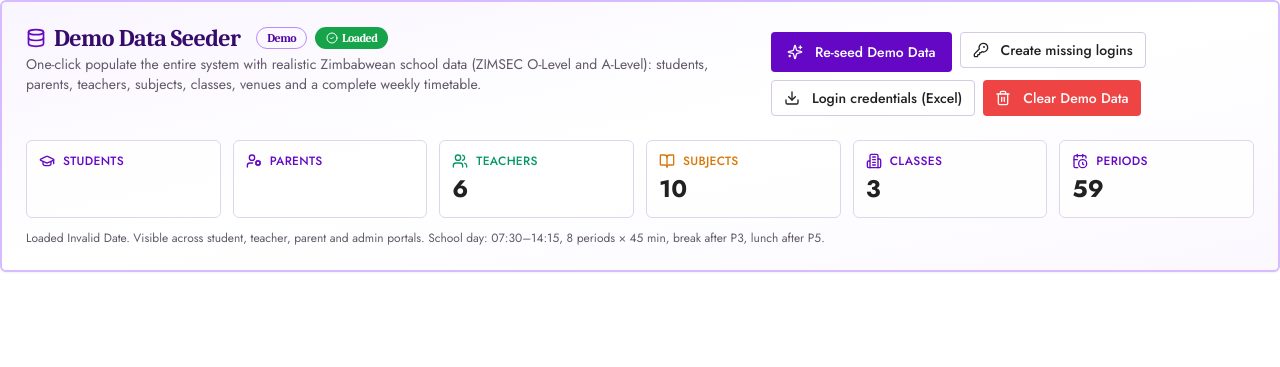
Scenario: Demo data seeder panel › creates missing logins for saved demo data and says why any failed
What coordinates should you click on to do the following:
click the button "Create missing logins"
I would click on:
 (1053, 50)
Its box is [960,32,1146,68].
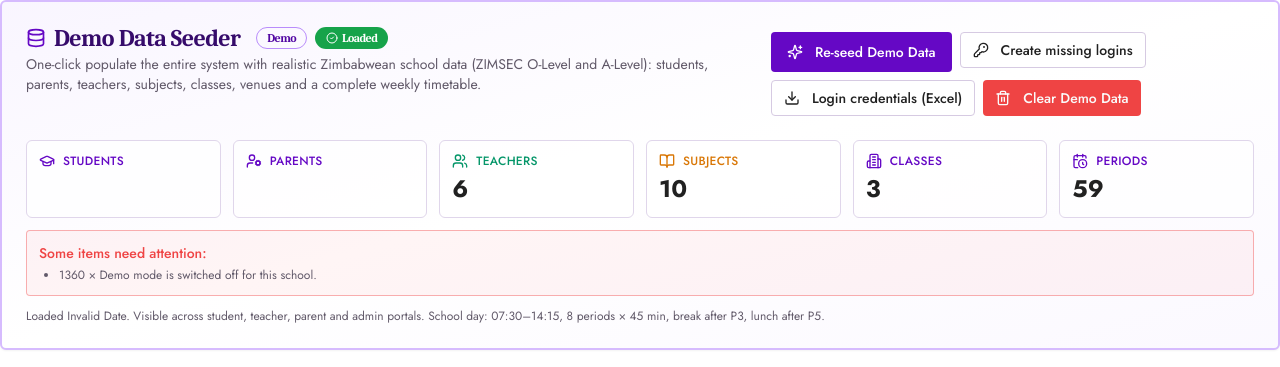
Expected: the text "Some items need attention:" is shown, [39,243,206,263]
Expected: the list item "1360 × Demo mode is switched off for this school." is shown, [59,266,317,284]
